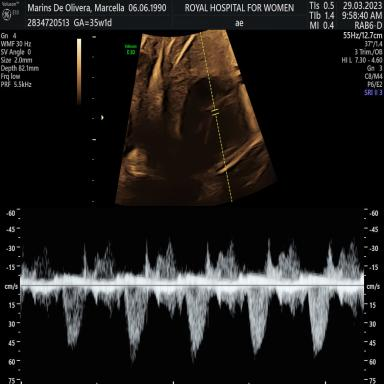Ultrasound-Waves: (26, 214, 361, 384)
